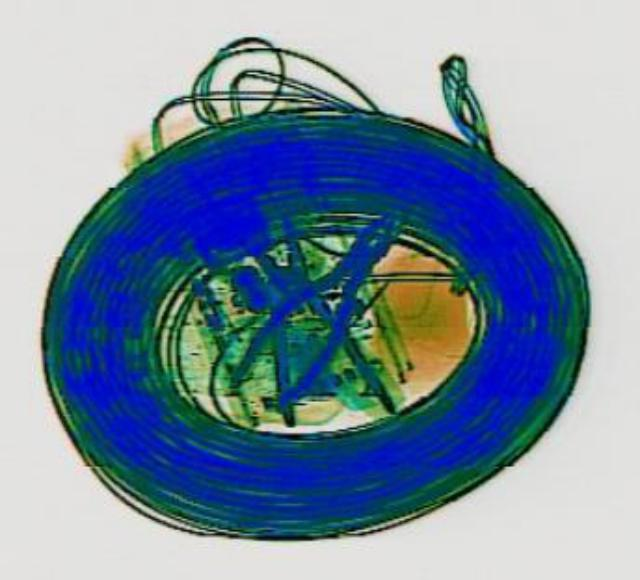Pliers: (197, 191, 397, 438), (214, 191, 426, 415)
